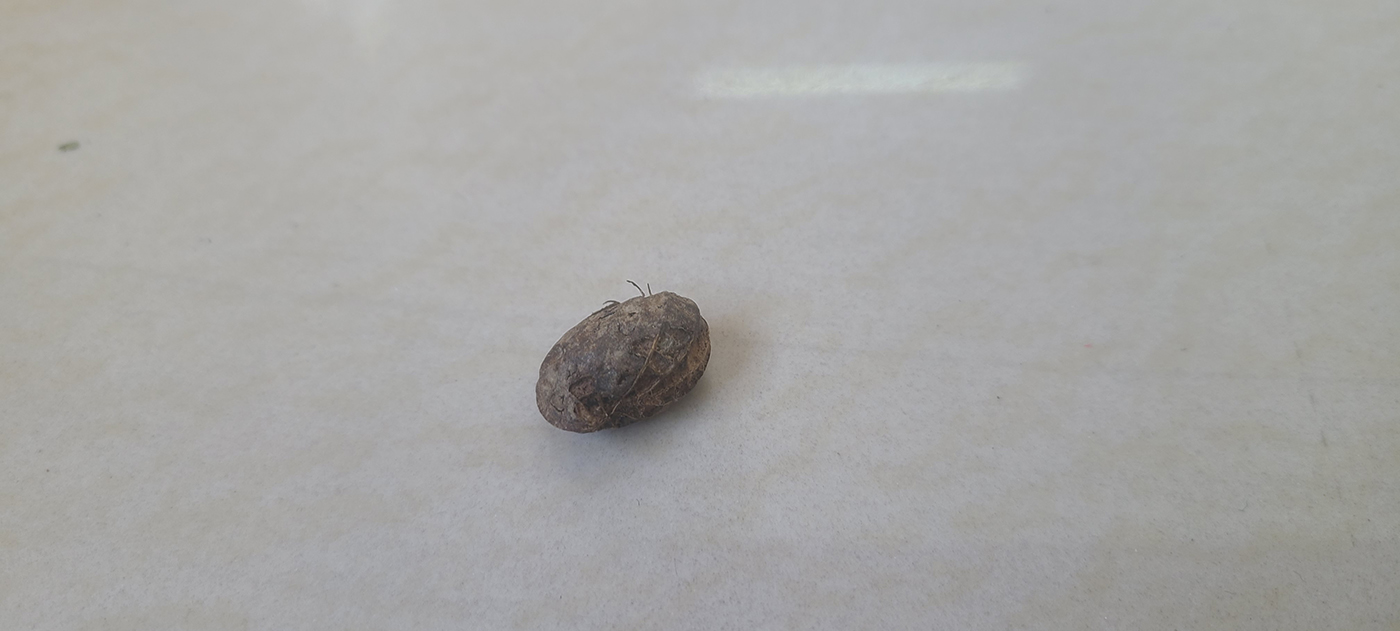l: (534, 289, 713, 434)
